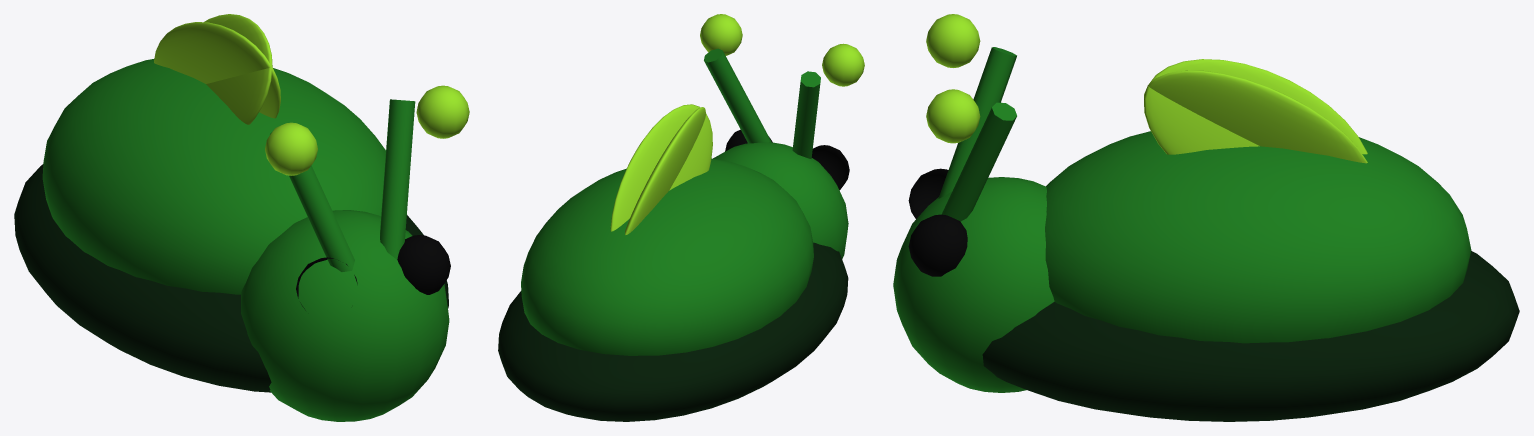
The model's file is brote.obj.
3 renders of one model, left to right at view 1: azimuth 30°, elevation 25°; view 2: azimuth 150°, elevation 25°; view 3: azimuth 270°, elevation 25°, orthographic. The views are drawn at different scales.
Bounding box in the file's own units: 0.4 × 0.378 × 0.647.
